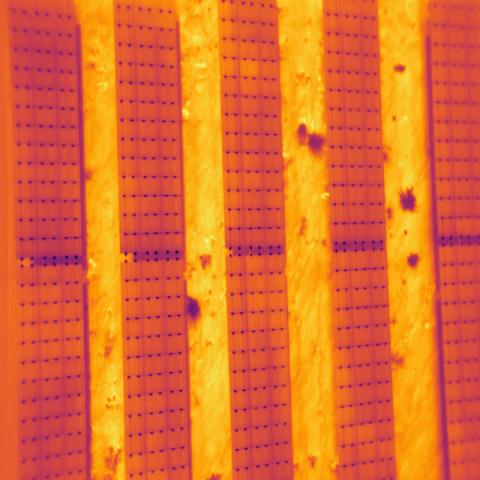fault: (240, 57, 259, 80)
